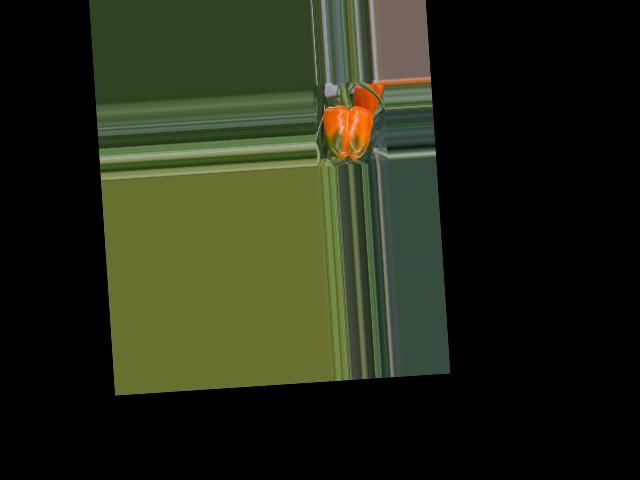bell_pepper: (315, 96, 378, 165)
